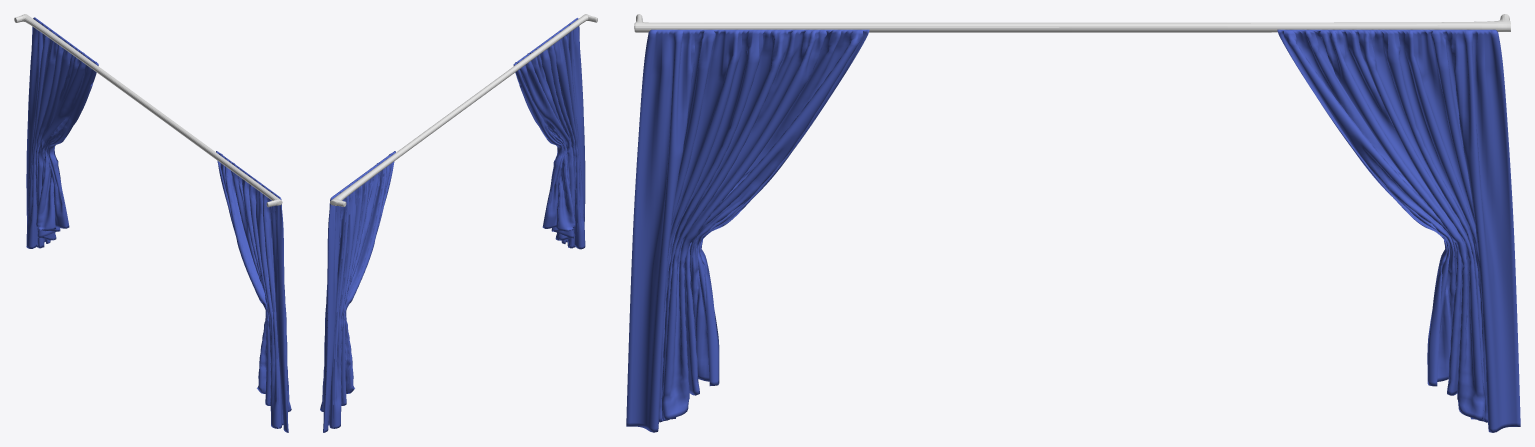
Rendered from windowHopefullyFixed.fbx.
3 views of the same model, side by side, from view 1: azimuth 30°, elevation 25°; view 2: azimuth 150°, elevation 25°; view 3: azimuth 270°, elevation 25° (orthographic). The views are drawn at different scales.
Parts seen in each view (by area): view 1: Curtain right, Curtain_left, Window Railing; view 2: Curtain_left, Curtain right, Window Railing; view 3: Curtain right, Curtain_left, Window Railing.
Part boxes in pixels (box(x1,y1,x2,y2)): Curtain right: box(26, 17, 98, 248); Curtain_left: box(216, 151, 291, 432); Window Railing: box(14, 14, 282, 207); Curtain_left: box(513, 18, 585, 249); Curtain right: box(320, 151, 395, 432); Window Railing: box(330, 14, 597, 206); Curtain right: box(1277, 29, 1520, 432); Curtain_left: box(626, 29, 869, 432); Window Railing: box(634, 14, 1510, 32).
Bounding box in the file's own units: 25 × 167 × 340.
